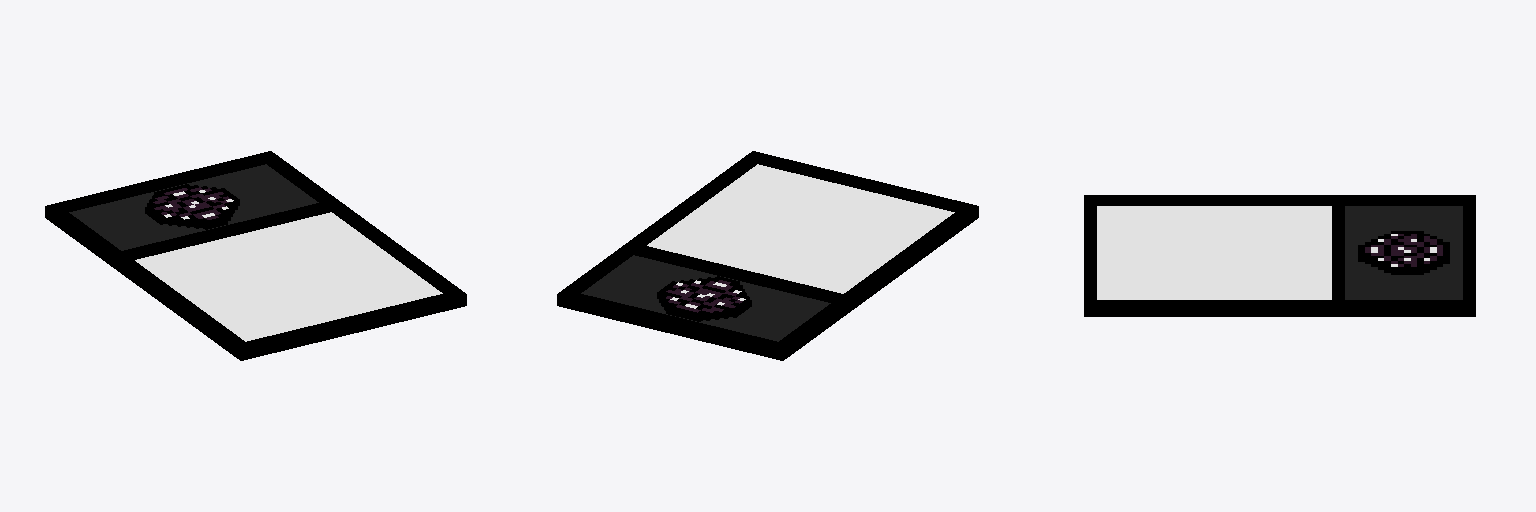
The picture shows the model from 3 angles: view 1: azimuth 30°, elevation 25°; view 2: azimuth 150°, elevation 25°; view 3: azimuth 270°, elevation 25°; orthographic projection.
Visible parts, largest first — view 1: object 1; view 2: object 1; view 3: object 1.
Part boxes in pixels (bbox=[...]): object 1: bbox=[45, 151, 466, 360]; object 1: bbox=[557, 151, 978, 360]; object 1: bbox=[1084, 195, 1475, 316].
Bounding box in the file's own units: 4 × 0.2 × 6.
1 materials, 1 textured.